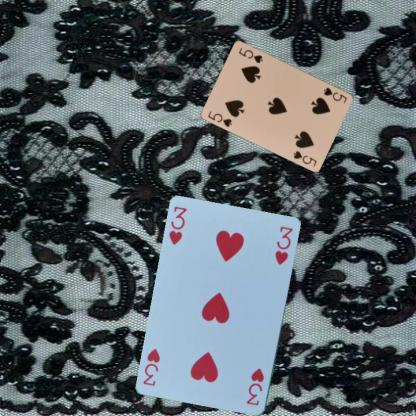3h: (166, 204, 188, 247), (244, 366, 266, 407)
5s: (205, 108, 234, 128), (322, 85, 349, 105)
